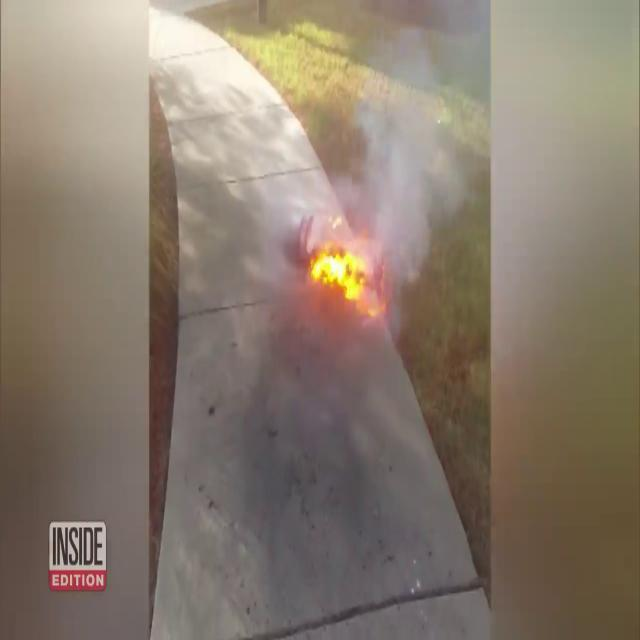Fire: (307, 238, 383, 316)
Smoke: (320, 0, 490, 271)
